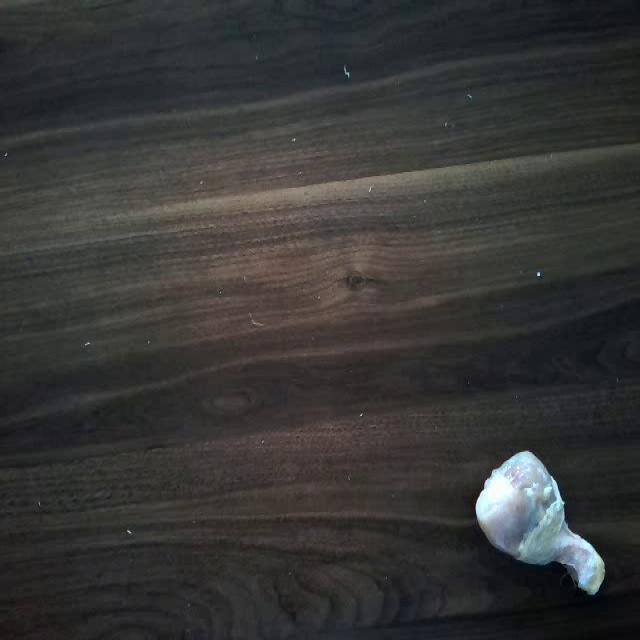leg: (471, 443, 608, 601)
